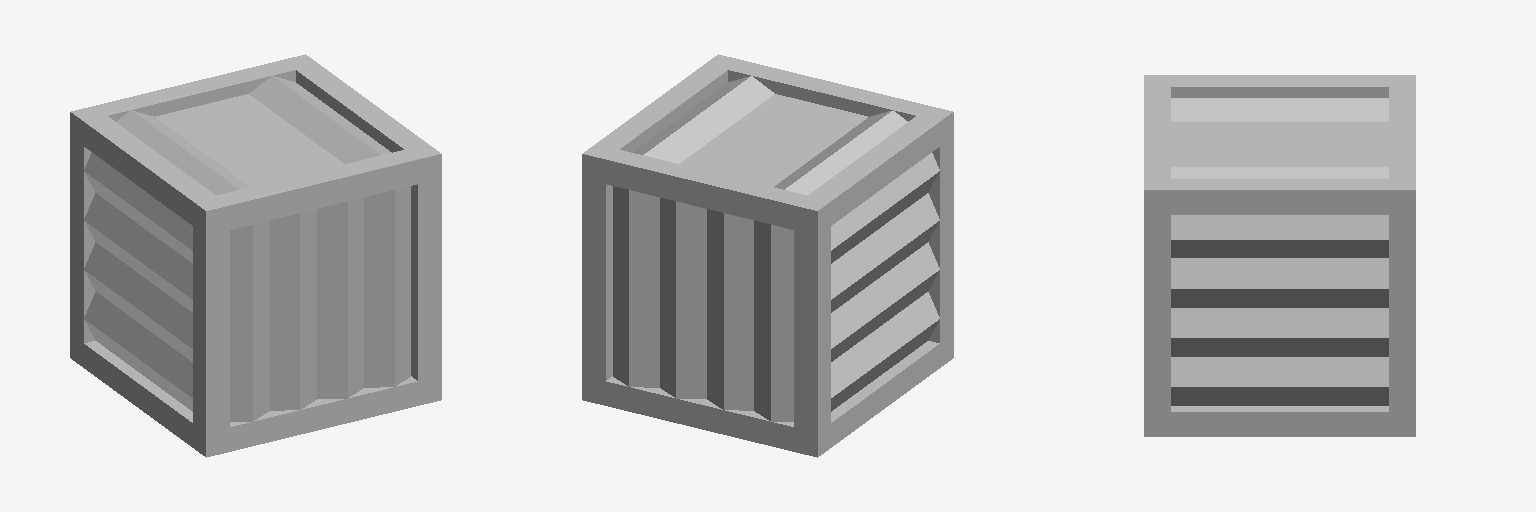
The model's file is metal_crate.obj.
3 renders of one model, left to right at view 1: azimuth 30°, elevation 25°; view 2: azimuth 150°, elevation 25°; view 3: azimuth 270°, elevation 25°, orthographic.
Parts seen in each view (by area): view 1: Cube; view 2: Cube; view 3: Cube.
Part boxes in pixels (x1,y1,x2,y2): Cube: (70, 54, 441, 457); Cube: (582, 54, 953, 457); Cube: (1144, 75, 1415, 436).
Size of the model in its own units: 1 by 1 by 1.